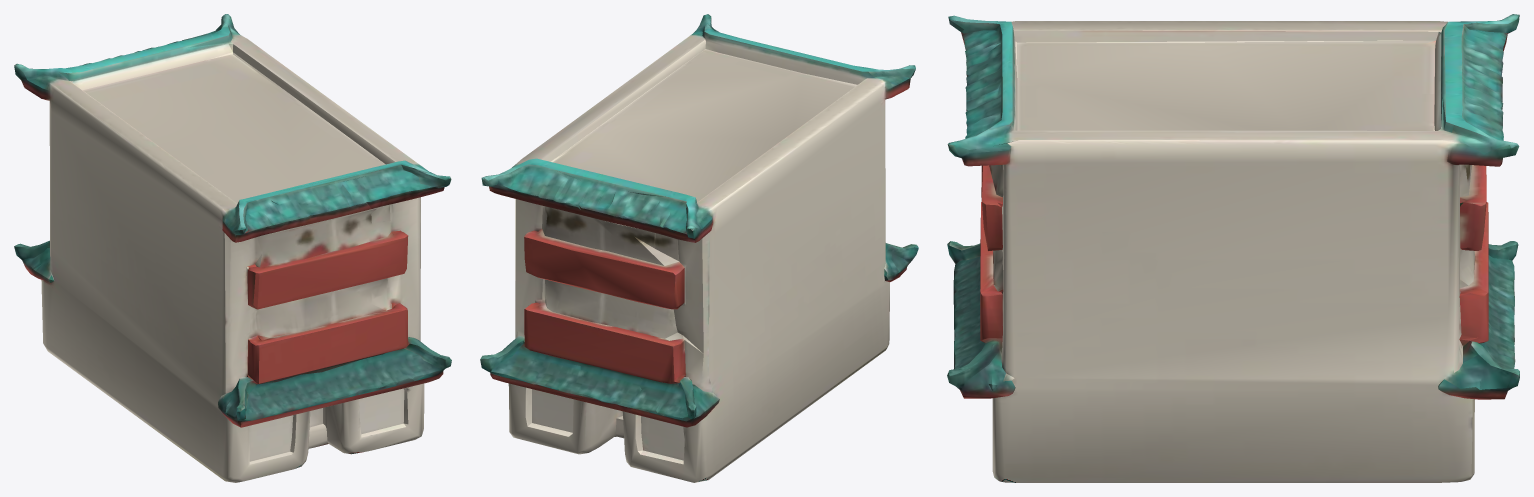
The model's file is chinatown-shophouse.glb.
3 renders of one model, left to right at view 1: azimuth 30°, elevation 25°; view 2: azimuth 150°, elevation 25°; view 3: azimuth 270°, elevation 25°, orthographic. The views are drawn at different scales.
Parts seen in each view (by area): view 1: chinatown-shophouse; view 2: chinatown-shophouse; view 3: chinatown-shophouse.
Boxes of the visible parts, bbox=[...] form: chinatown-shophouse: bbox=[14, 14, 451, 482]; chinatown-shophouse: bbox=[480, 14, 918, 482]; chinatown-shophouse: bbox=[947, 14, 1519, 482].
Bounding box in the file's own units: 4.4 × 5.4 × 8.
1 material, 1 textured.
